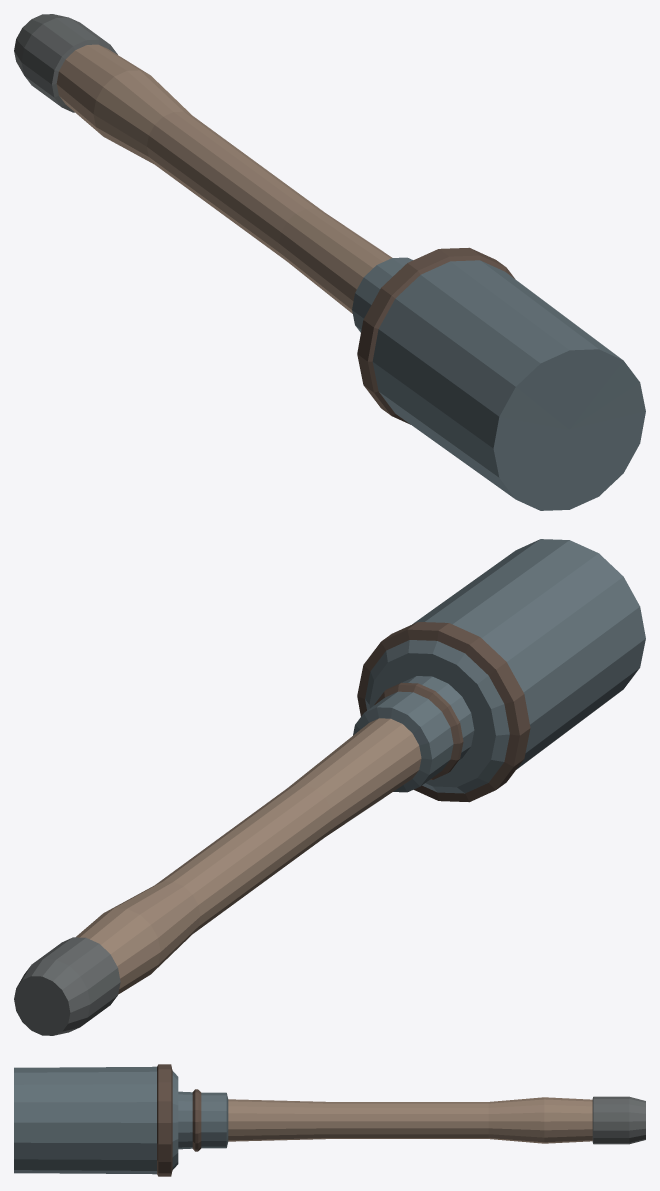
Rendered from SM_MortarBombs_02.fbx.
3 views of the same model, one above another, from view 1: azimuth 30°, elevation 25°; view 2: azimuth 150°, elevation 25°; view 3: azimuth 270°, elevation 25° (orthographic). The views are drawn at different scales.
Parts seen in each view (by area): view 1: SM_MortarBombs_02; view 2: SM_MortarBombs_02; view 3: SM_MortarBombs_02.
Boxes of the visible parts, box(x1,y1,x2,y2) form: SM_MortarBombs_02: box(14, 14, 645, 510); SM_MortarBombs_02: box(14, 539, 645, 1035); SM_MortarBombs_02: box(14, 1064, 645, 1176).
Bounding box in the file's own units: 3.17 × 3.17 × 17.78.
1 material, 1 textured.
